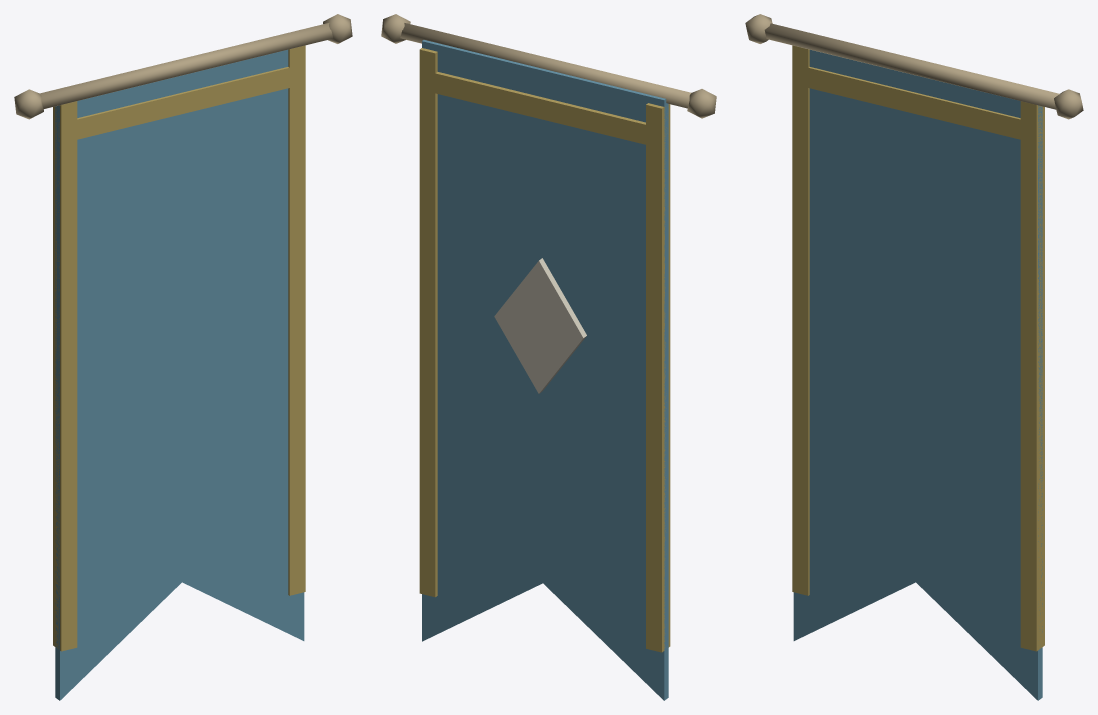
Rendered from ice_bat_banner_v0.glb.
3 renders of one model, left to right at view 1: azimuth 30°, elevation 25°; view 2: azimuth 150°, elevation 25°; view 3: azimuth 330°, elevation 25°, orthographic.
Parts seen in each view (by area): view 1: ice_bat_banner_v0; view 2: ice_bat_banner_v0; view 3: ice_bat_banner_v0.
Part boxes in pixels (bbox=[...]): ice_bat_banner_v0: bbox=[14, 14, 352, 700]; ice_bat_banner_v0: bbox=[381, 14, 716, 700]; ice_bat_banner_v0: bbox=[745, 14, 1083, 700].
Size of the model in its own units: 1.04 by 1.84 by 0.0933.
